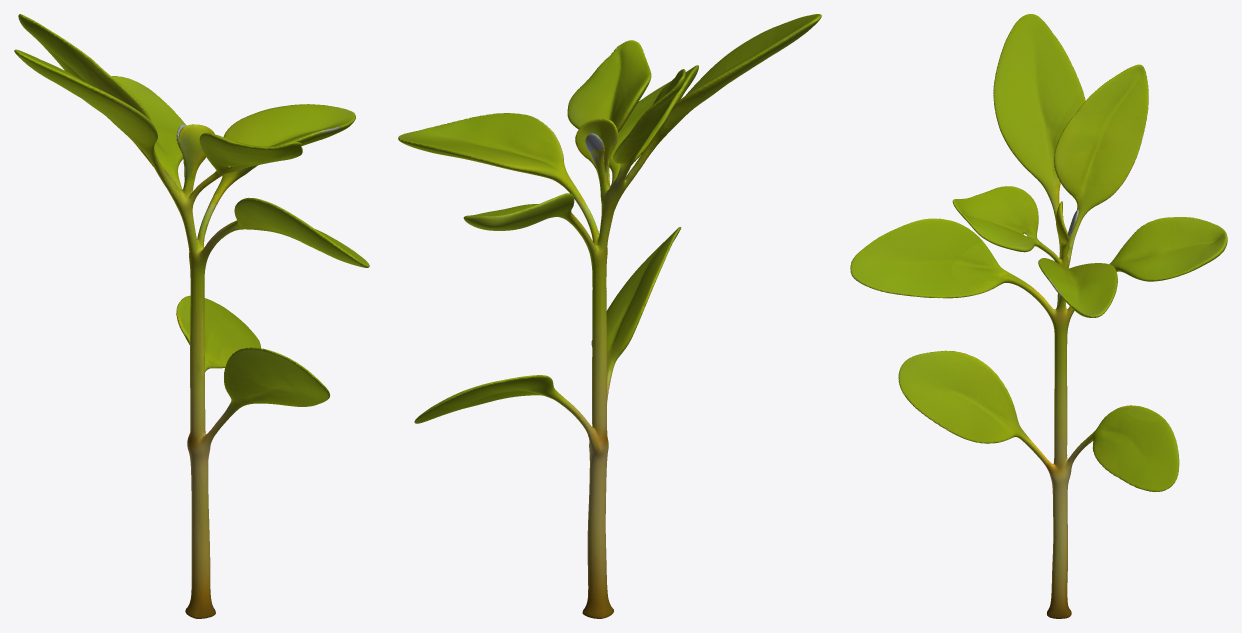
Rendered from seedling+plant+3d+model.fbx.
3 views of the same model, side by side, from view 1: azimuth 30°, elevation 25°; view 2: azimuth 150°, elevation 25°; view 3: azimuth 270°, elevation 25° (orthographic). The views are drawn at different scales.
Visible parts, largest first — view 1: tripo_node_7457840e; view 2: tripo_node_7457840e; view 3: tripo_node_7457840e.
Boxes of the visible parts, x1,y1,x2,y2 form: tripo_node_7457840e: (14,14,369,618); tripo_node_7457840e: (398,14,821,618); tripo_node_7457840e: (850,14,1227,618).
Size of the model in its own units: 0.631 by 1 by 0.6588.
Materials: 1 (1 with a texture image).
